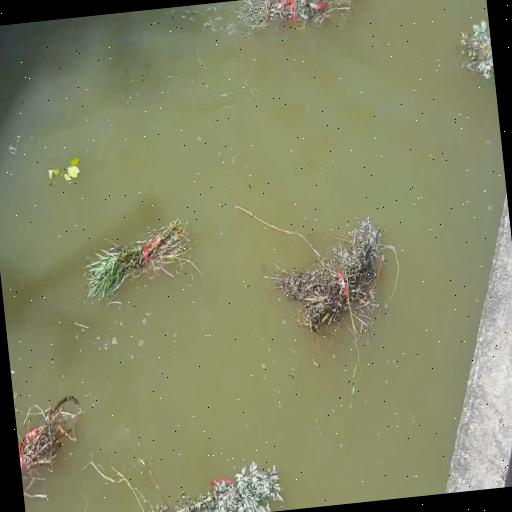twig: (259, 202, 400, 357), (124, 448, 283, 512), (12, 386, 90, 496), (82, 220, 183, 298), (229, 0, 354, 48), (457, 18, 495, 88), (28, 150, 80, 196)
